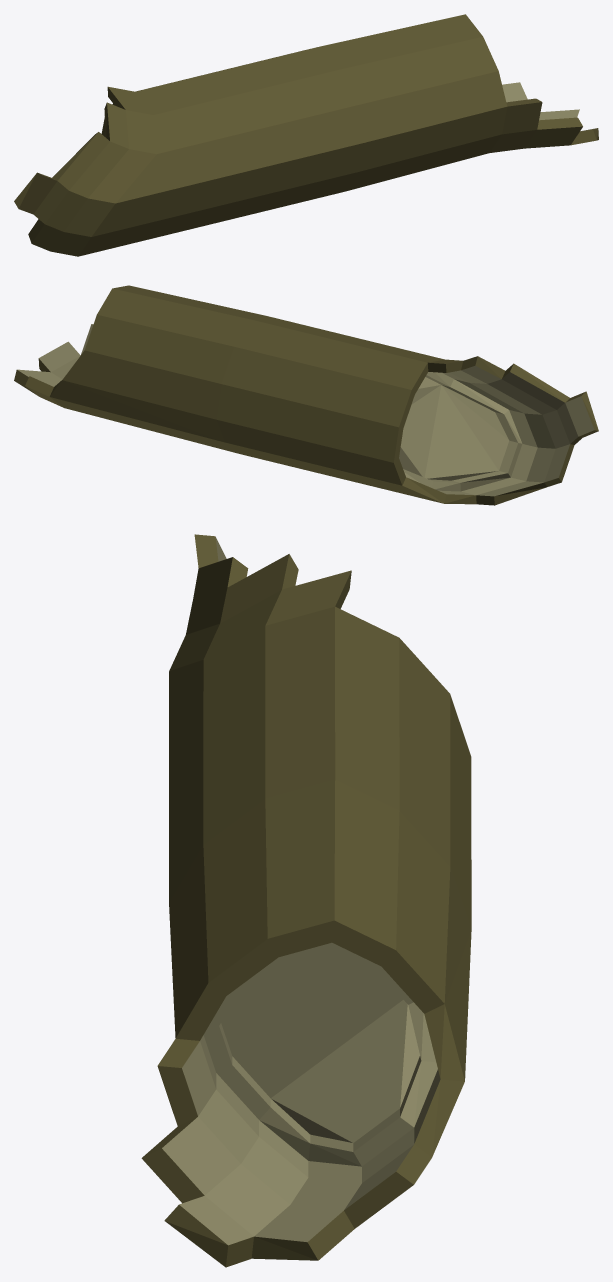
Rendered from FallenTree3.fbx.
3 views of the same model, one above another, from view 1: azimuth 30°, elevation 25°; view 2: azimuth 150°, elevation 25°; view 3: azimuth 270°, elevation 25° (orthographic). The views are drawn at different scales.
Visible parts, largest first — view 1: FallenTree3; view 2: FallenTree3; view 3: FallenTree3.
Part boxes in pixels (left/top/right/bottom): FallenTree3: left=14, top=14, right=598, bottom=256; FallenTree3: left=14, top=285, right=598, bottom=505; FallenTree3: left=141, top=534, right=471, bottom=1267.
Bounding box in the file's own units: 1859 × 460 × 475.
